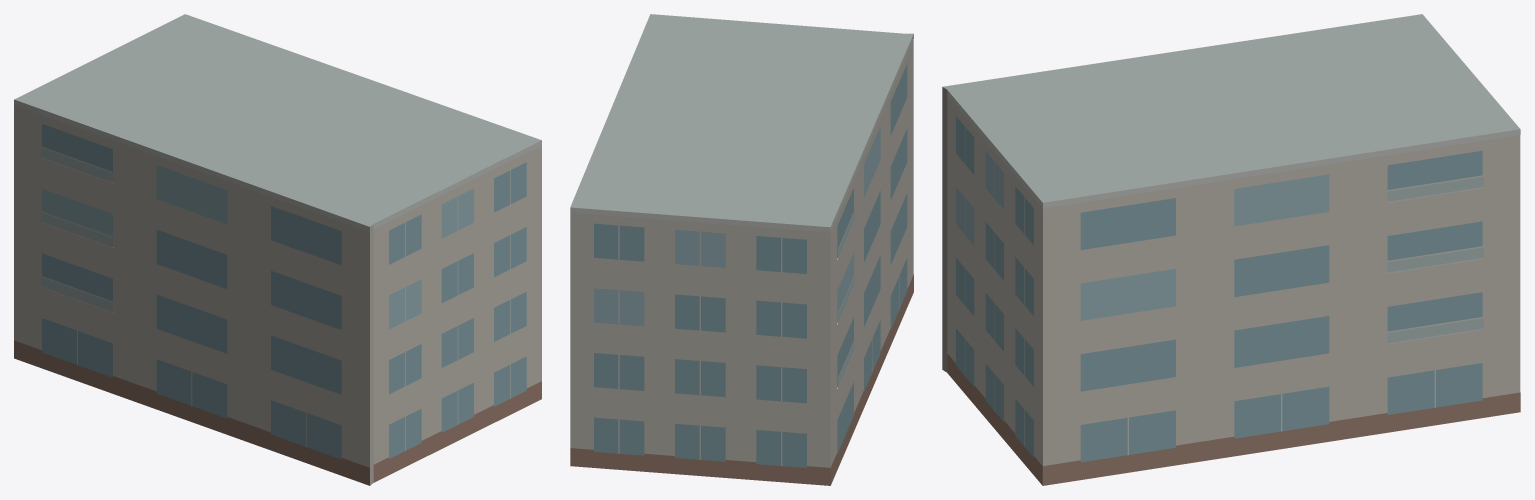
Rendered from survey-upis-32850758.glb.
3 renders of one model, left to right at view 1: azimuth 30°, elevation 25°; view 2: azimuth 150°, elevation 25°; view 3: azimuth 270°, elevation 25°, orthographic. The views are drawn at different scales.
Parts seen in each view (by area): view 1: survey-upis-32850758.tmp; view 2: survey-upis-32850758.tmp; view 3: survey-upis-32850758.tmp.
Part boxes in pixels (x1,y1,x2,y2): survey-upis-32850758.tmp: [14, 14, 541, 485]; survey-upis-32850758.tmp: [570, 14, 913, 485]; survey-upis-32850758.tmp: [942, 14, 1520, 485].
Bounding box in the file's own units: 17.14 × 11.97 × 22.17.
